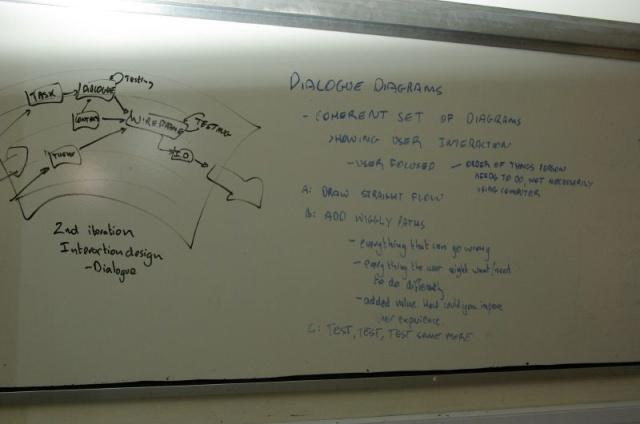Whiteboard: (0, 0, 639, 396)
